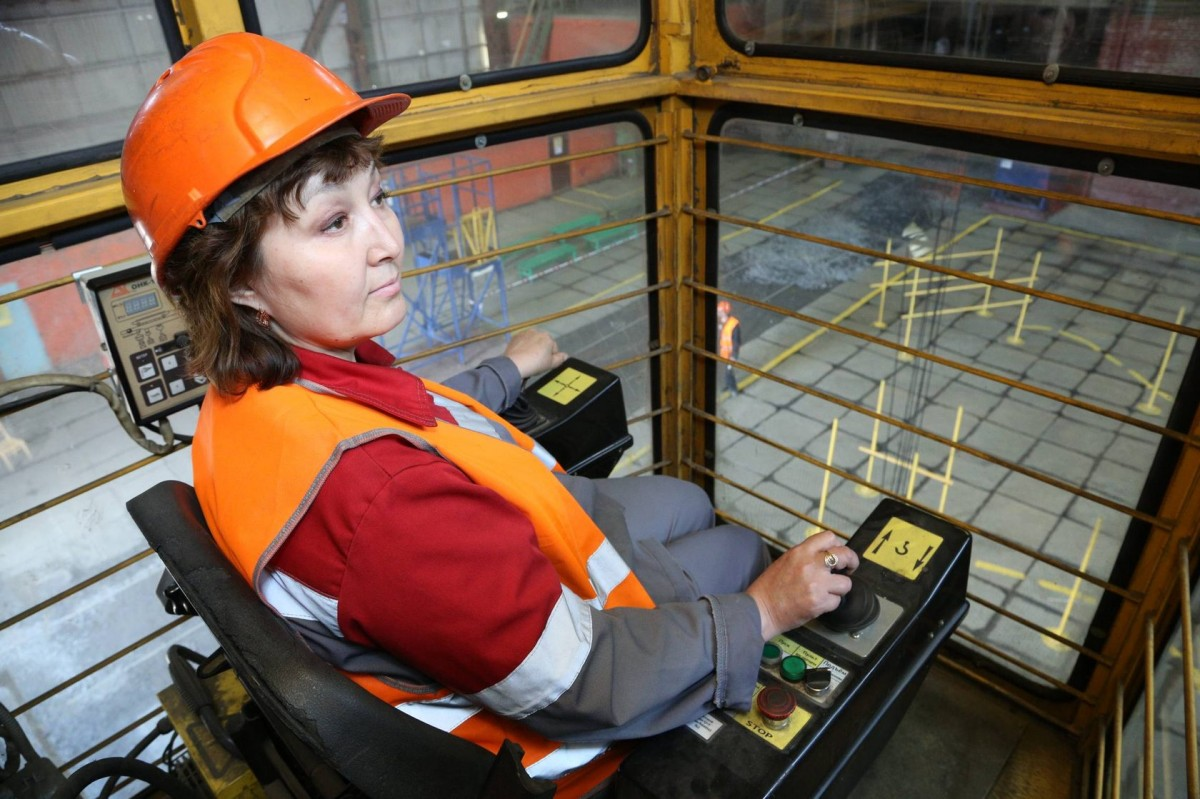person: (118, 33, 861, 778)
